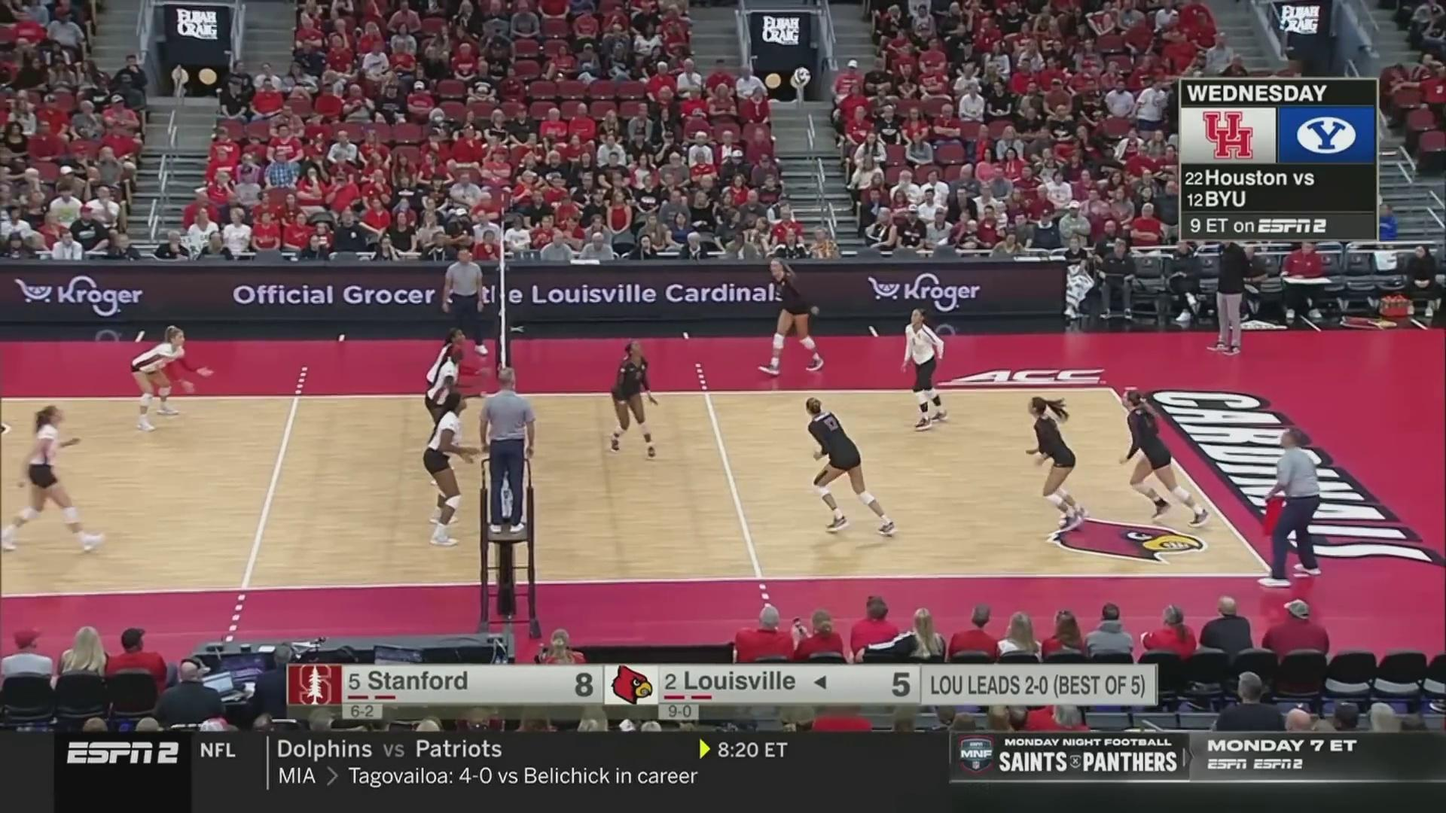player: (2, 408, 104, 551), (803, 397, 897, 534), (1120, 390, 1201, 527), (130, 326, 210, 431), (756, 257, 825, 373), (1028, 396, 1085, 531), (424, 393, 472, 546), (427, 346, 478, 483), (902, 309, 950, 428), (610, 340, 659, 455), (426, 329, 468, 442)
refree: (1264, 430, 1325, 582), (481, 371, 536, 531), (441, 248, 489, 360)
